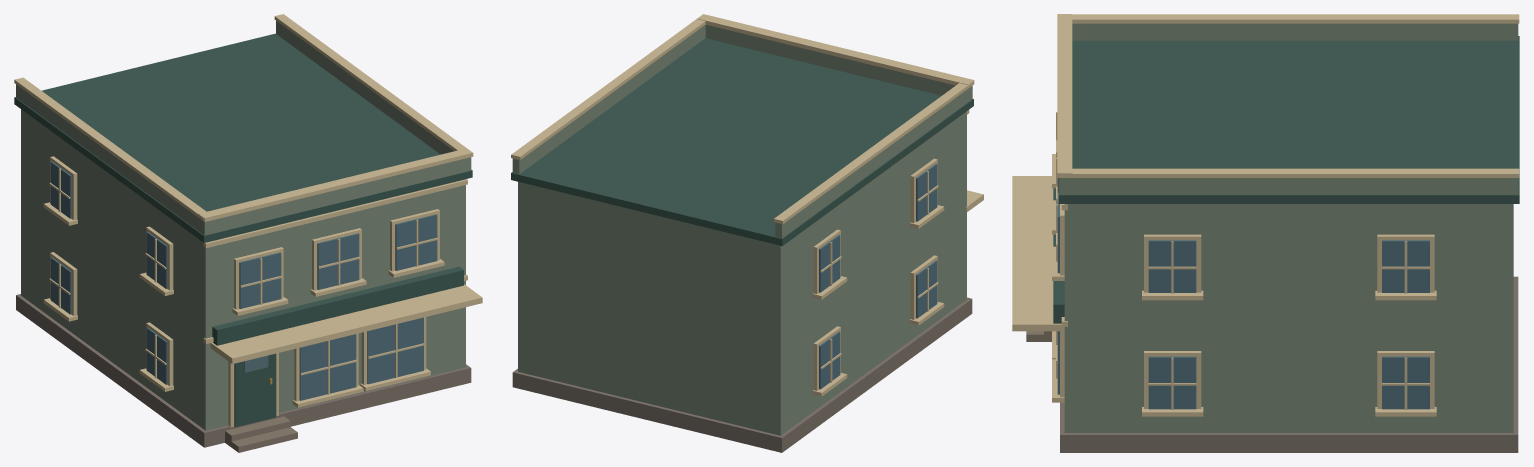
Rendered from corner_grocery.glb.
The picture shows the model from 3 angles, left to right: view 1: azimuth 30°, elevation 25°; view 2: azimuth 150°, elevation 25°; view 3: azimuth 270°, elevation 25°; orthographic projection. The views are drawn at different scales.
Parts seen in each view (by area): view 1: Main building, Flat roof, Stone foundation, Ground floor canopy, Ground floor fascia, Front parapet, Blue glazing.011, Blue glazing.012, Front coping, Side parapet, Door, Side parapet.001 (+24 smaller); view 2: Main building, Flat roof, Stone foundation, Front parapet, Front coping, Side parapet, Side parapet.001, Parapet coping, Parapet coping.001, Blue glazing, Blue glazing.001, Blue glazing.008 (+5 smaller); view 3: Main building, Flat roof, Stone foundation, Side parapet, Side parapet.001, Ground floor canopy, Parapet coping.001, Parapet coping, Front coping, Blue glazing.002, Blue glazing.009, Blue glazing.003 (+10 smaller).
Part boxes in pixels (x1,y1,x2,y2): Main building: (21,109,465,430); Flat roof: (14,33,472,242); Stone foundation: (16,294,471,447); Ground floor canopy: (210,284,482,363); Ground floor fascia: (212,266,463,345); Front parapet: (204,157,471,235); Blue glazing.011: (299,334,356,400); Blue glazing.012: (367,317,423,384); Front coping: (199,148,473,221); Side parapet: (16,84,204,234); Door: (234,353,276,427); Side parapet.001: (276,21,453,154); Main building: (518,112,966,435); Flat roof: (511,38,973,245); Stone foundation: (512,297,972,452); Front parapet: (705,24,972,98); Front coping: (697,14,974,85); Side parapet: (775,86,972,238); Side parapet.001: (512,25,705,174); Parapet coping: (774,81,973,224); Parapet coping.001: (511,19,705,159); Blue glazing: (916,260,937,318); Blue glazing.001: (819,331,840,389); Blue glazing.008: (819,235,840,292); Main building: (1064,204,1513,432); Flat roof: (1059,36,1519,203); Stone foundation: (1060,276,1518,452); Side parapet: (1072,23,1518,40); Side parapet.001: (1060,178,1518,194); Ground floor canopy: (1012,176,1064,331); Parapet coping.001: (1059,168,1519,177); Parapet coping: (1072,14,1519,23); Front coping: (1057,14,1072,177); Blue glazing.002: (1148,356,1196,409); Blue glazing.009: (1148,240,1196,292); Blue glazing.003: (1382,356,1429,409).
Size of the model in its own units: 7.51 by 5.95 by 9.76.
